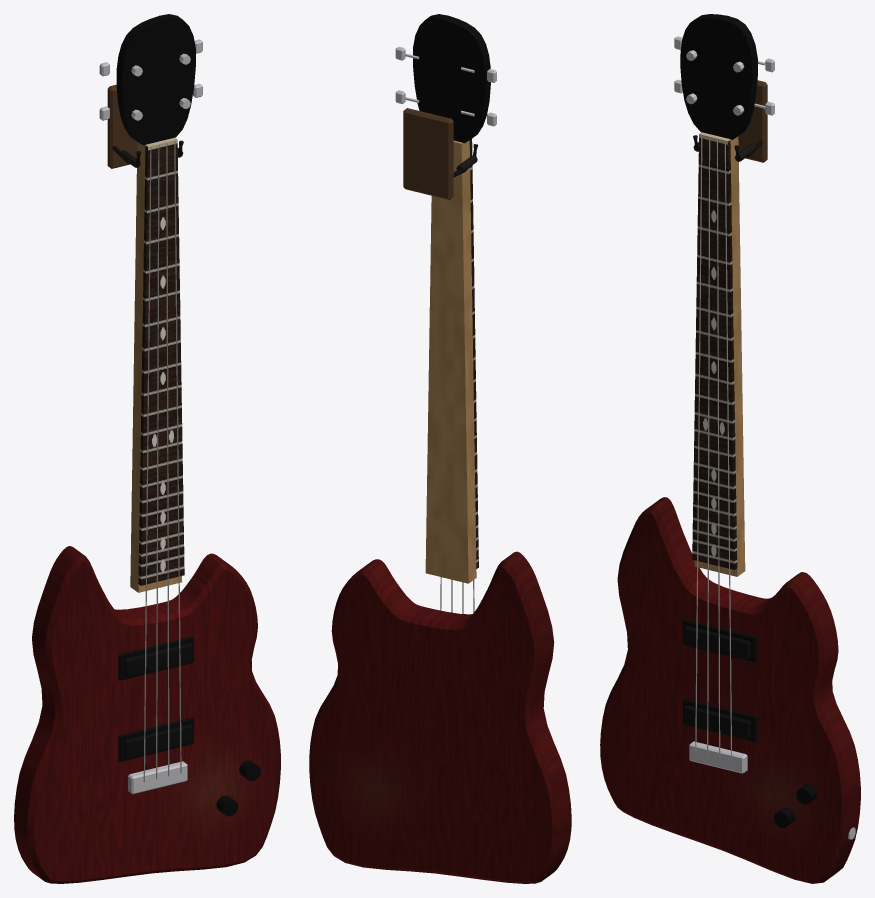
File: bass.glb
3 views of the same model, side by side, from view 1: azimuth 30°, elevation 25°; view 2: azimuth 150°, elevation 25°; view 3: azimuth 330°, elevation 25° (orthographic). The views are drawn at different scales.
Visible parts, largest first — view 1: bass; view 2: bass; view 3: bass.
Part boxes in pixels (box(x1,y1,x2,y2)): bass: box(14, 14, 280, 883); bass: box(309, 14, 571, 883); bass: box(600, 14, 860, 883).
Size of the model in its own units: 0.36 by 1.18 by 0.0791.
Materials: 1 (1 with a texture image).
